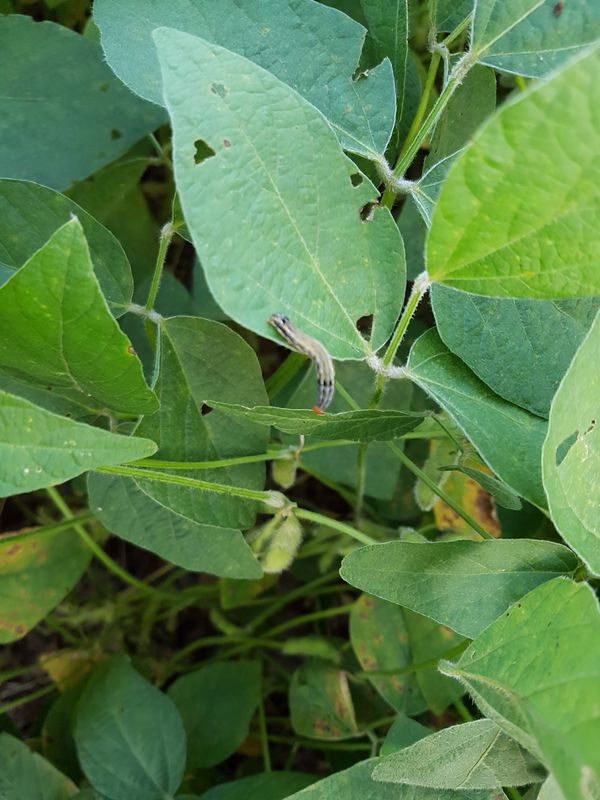Spodoptera_albula: (249, 301, 350, 428)
